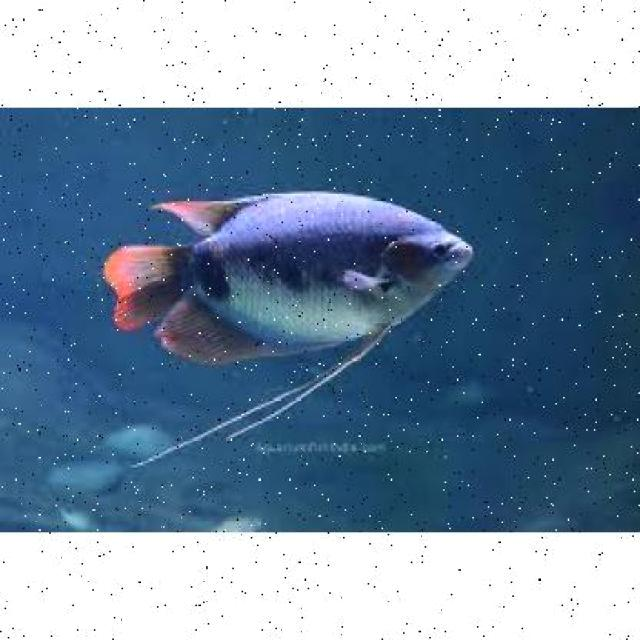gurame: (107, 190, 476, 382)
